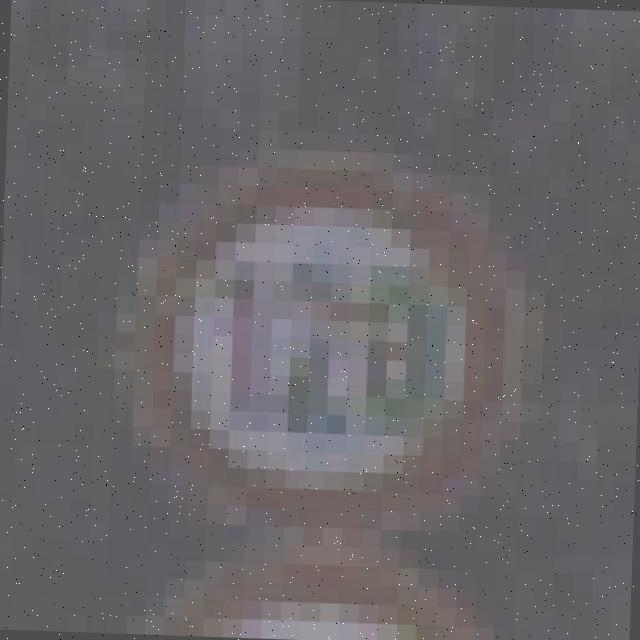Ograniczenie predkosci do 120: (150, 157, 520, 546)
